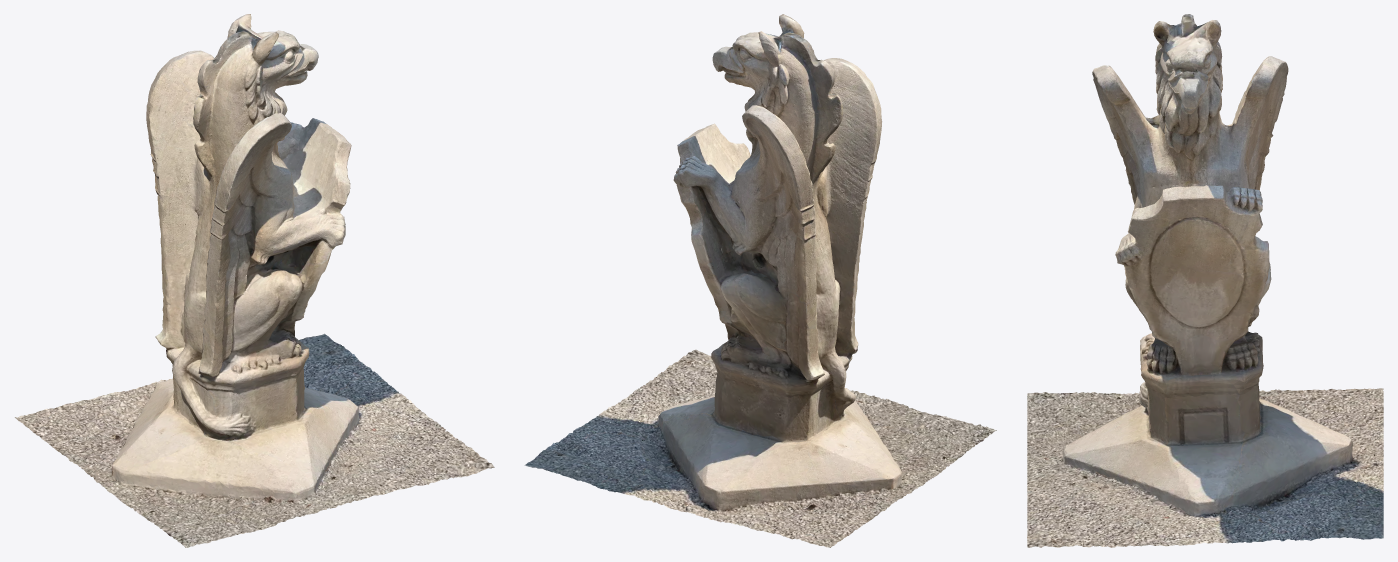
The model's file is gargoyle_sculpture_indiana_limestone.glb.
The picture shows the model from 3 angles, left to right: view 1: azimuth 30°, elevation 25°; view 2: azimuth 150°, elevation 25°; view 3: azimuth 270°, elevation 25°; orthographic projection. The views are drawn at different scales.
Parts seen in each view (by area): view 1: Object_4; view 2: Object_4; view 3: Object_4.
Part boxes in pixels (x1,y1,x2,y2): Object_4: (15,14,494,547); Object_4: (524,14,996,547); Object_4: (1027,14,1383,547).
Size of the model in its own units: 0.7531 by 1.01 by 0.7169.
Materials: 1 (1 with a texture image).
